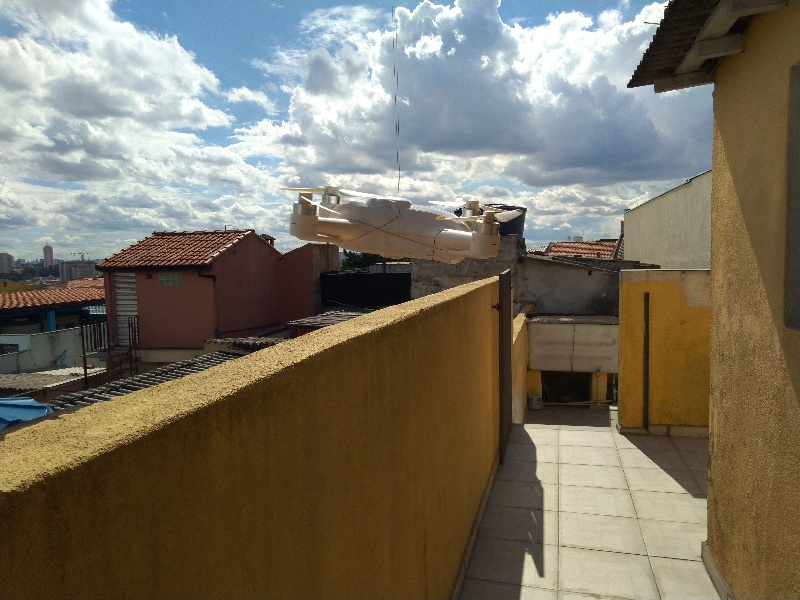drone: (281, 175, 530, 278)
